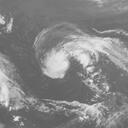cyclone: (40, 51, 70, 81)
